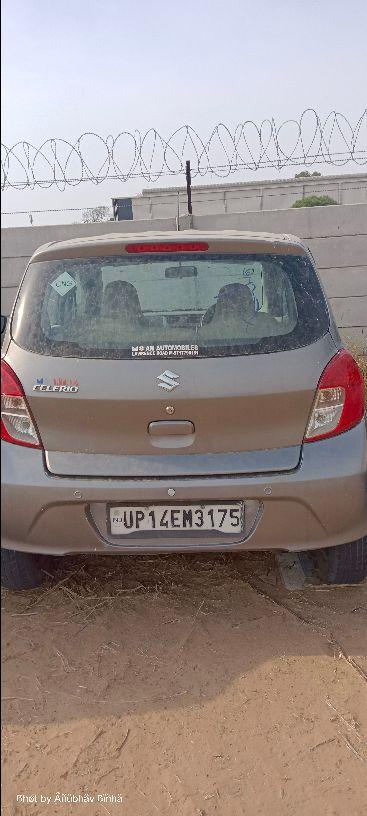license_plate: (106, 499, 246, 536)
